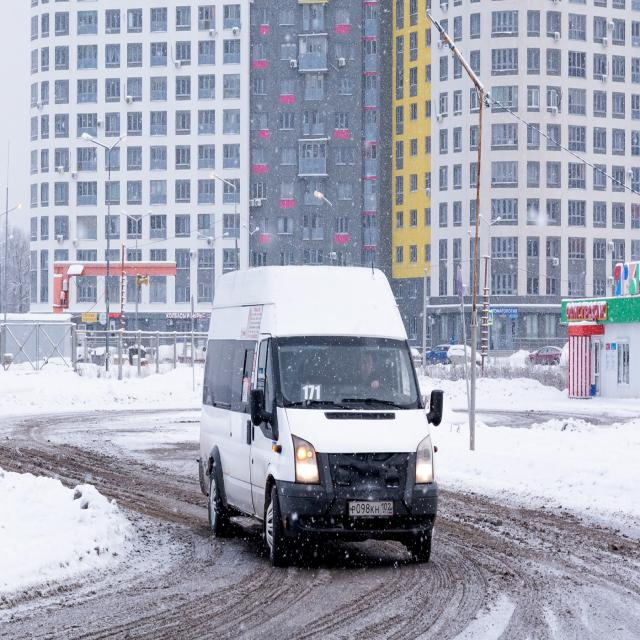number-of-bus: (302, 385, 322, 404)
